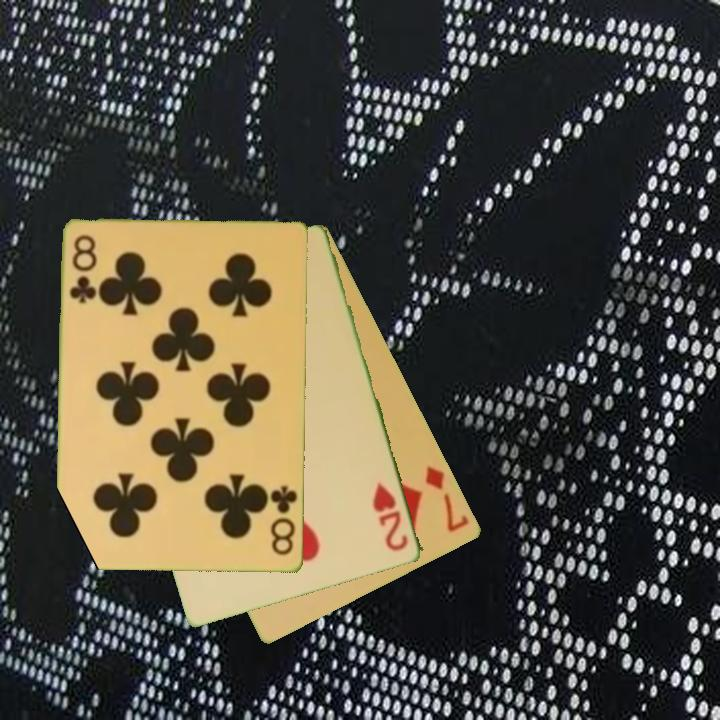2h: (370, 479, 412, 554)
7d: (422, 463, 473, 535)
8c: (267, 482, 301, 558), (66, 231, 99, 306)
